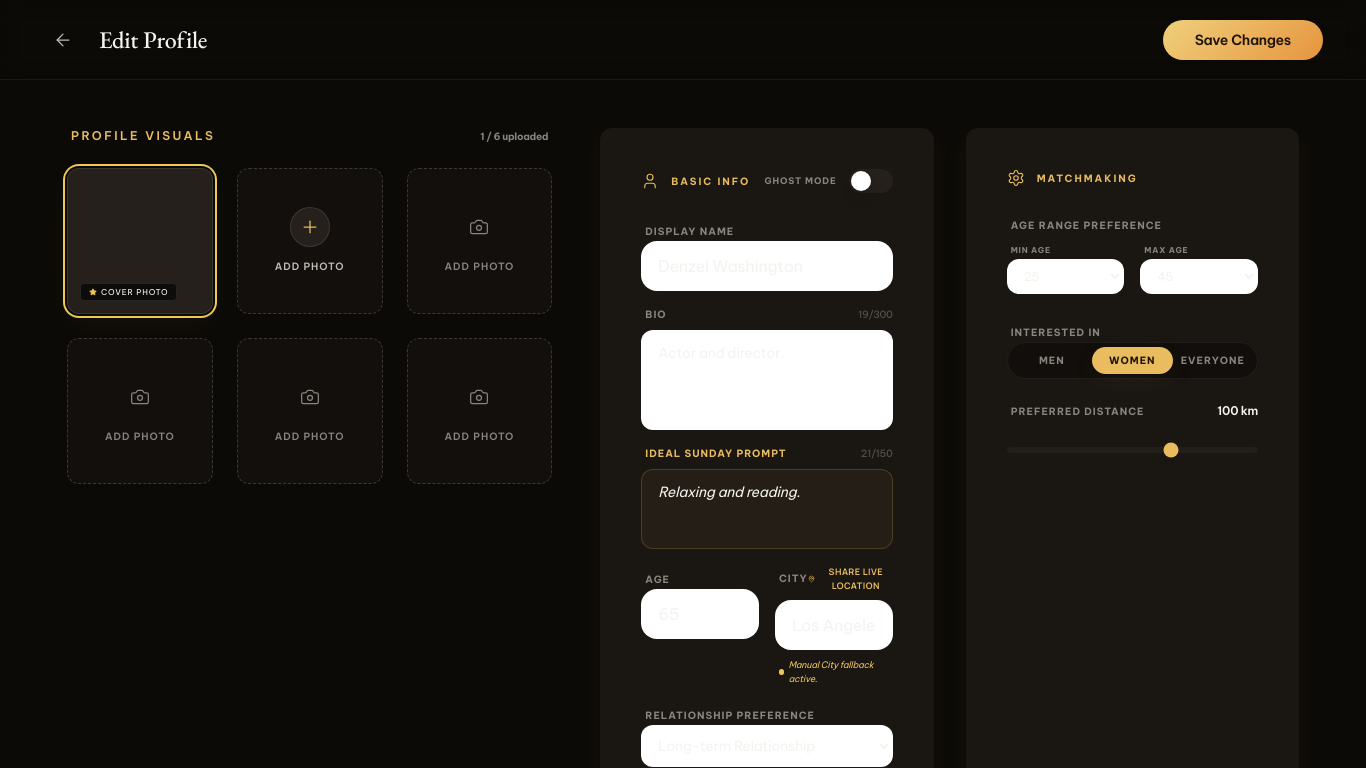
Test case: EditProfile Page › shows the server validation message when the save request fails
This screenshot has width=1366, height=768.
Click the button "Save Changes": [1243, 40] box [1163,20,1323,60]
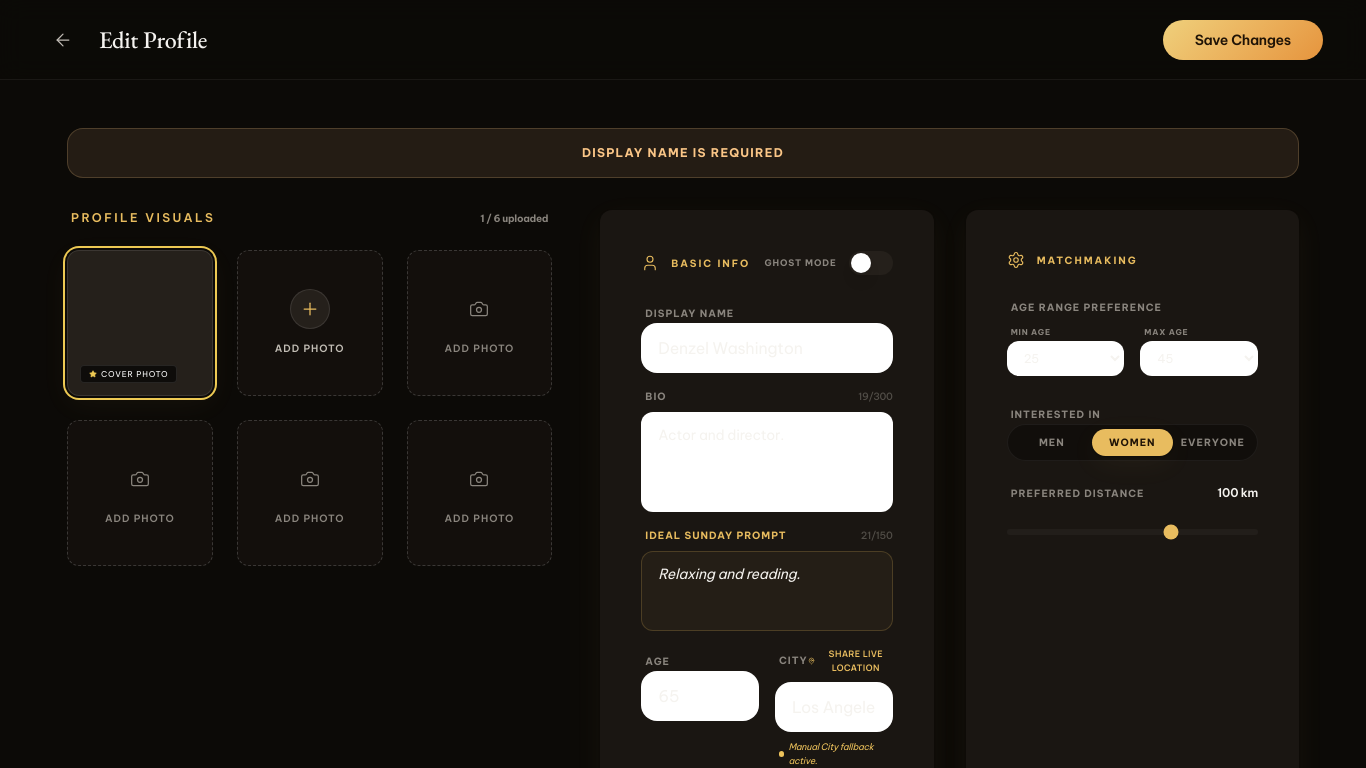
Expected: the text "Display name is required" is shown, [67,128,1299,178]
